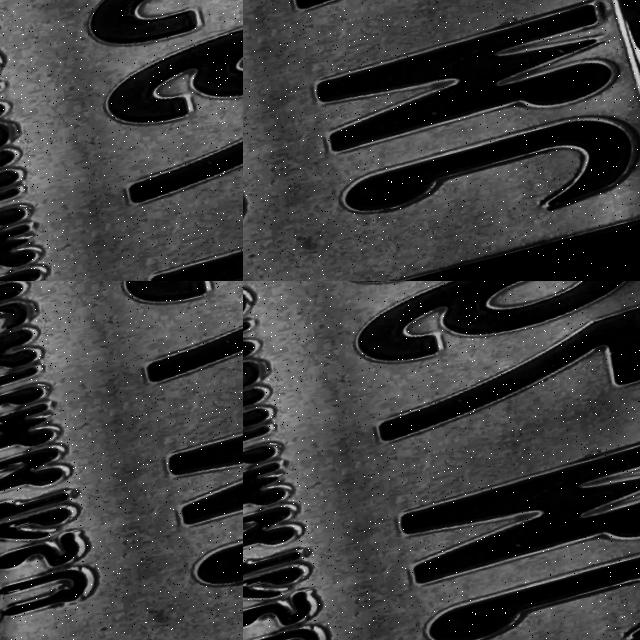license-plate: (243, 281, 640, 640), (139, 566, 243, 640), (399, 160, 496, 235)
